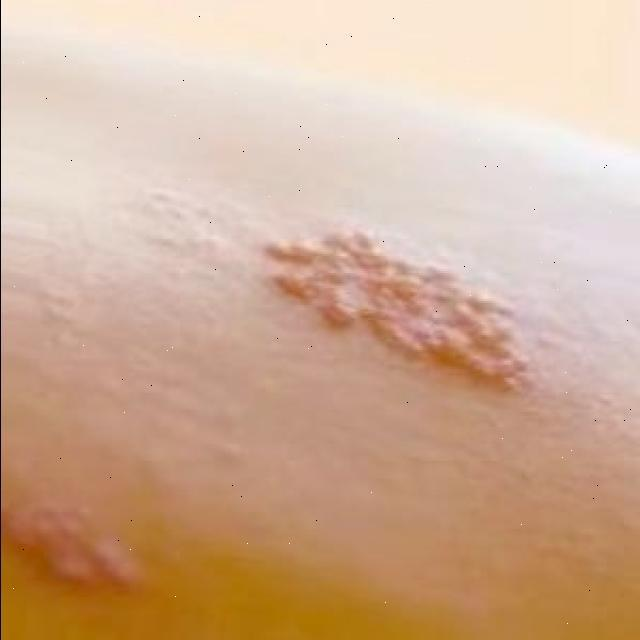Shingles: (259, 222, 541, 398), (0, 495, 151, 597)
